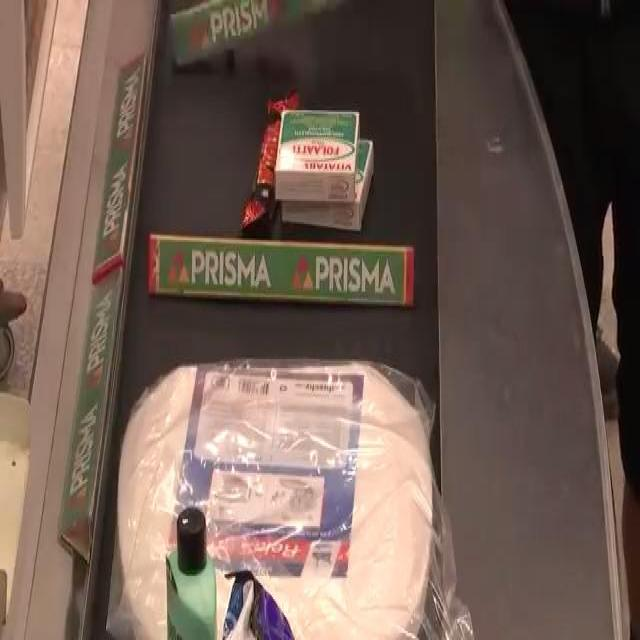food-box: (104, 309, 448, 640), (242, 91, 305, 249)
utility-box: (148, 499, 233, 640), (282, 126, 373, 236), (282, 92, 358, 198)
